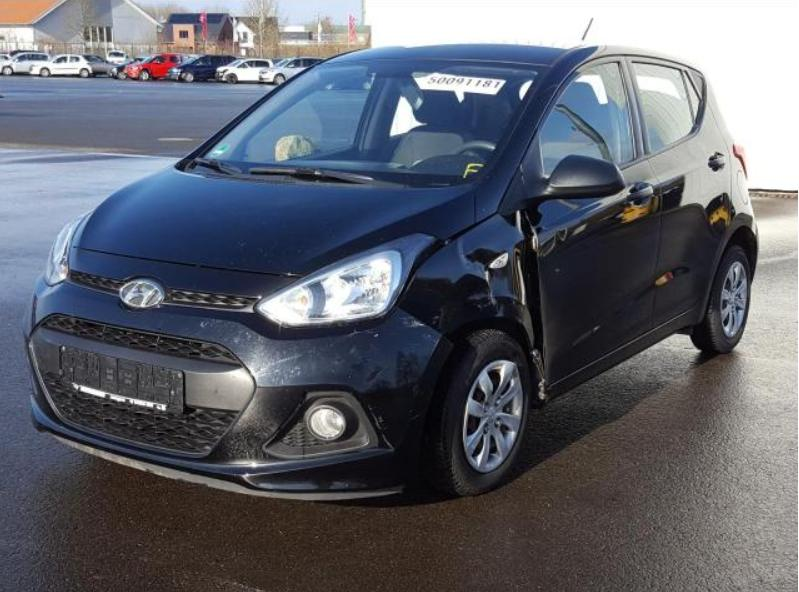Back-door: (625, 56, 733, 328)
Back-wheel: (689, 244, 751, 354)
Back-window: (633, 62, 694, 154), (685, 73, 700, 123), (692, 73, 703, 95)
Fender: (396, 201, 546, 400)
Front-bumper: (21, 247, 454, 501)
Front-door: (522, 56, 662, 386)
Front-wheel: (427, 328, 530, 496)
Front-window: (539, 63, 639, 175)
Grille: (27, 314, 256, 458)
Headlight: (254, 232, 437, 329), (45, 210, 91, 285)
Hood: (69, 163, 477, 277)
License-plate: (60, 345, 184, 413)
Mirror: (547, 155, 626, 199)
Quarter-panel: (730, 143, 759, 282)
Rocker-panel: (545, 299, 709, 401)
Roof: (317, 43, 578, 65)
Tail-light: (733, 144, 748, 178)
Windshield: (176, 58, 550, 189)
